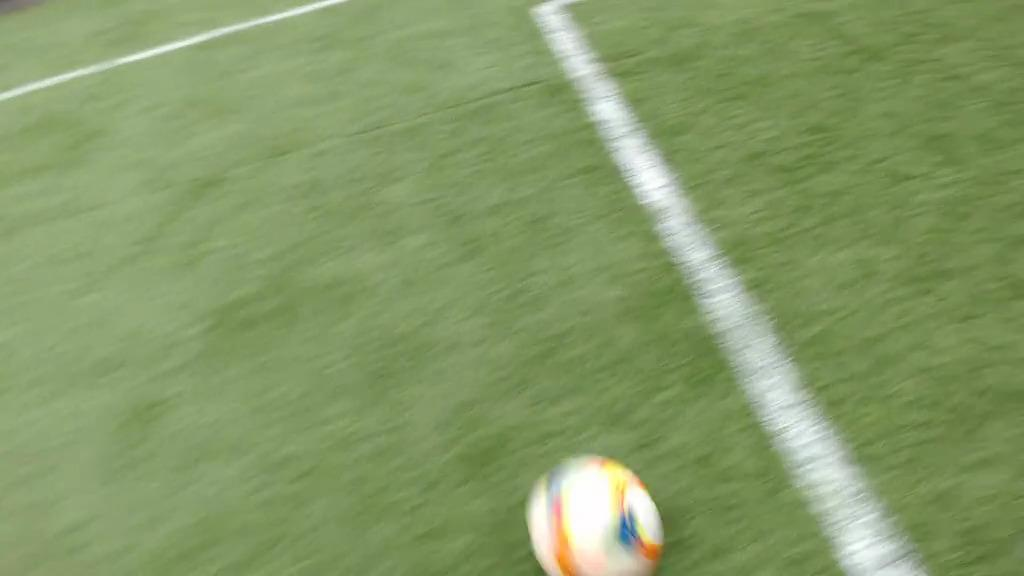ball: (525, 455, 665, 576)
